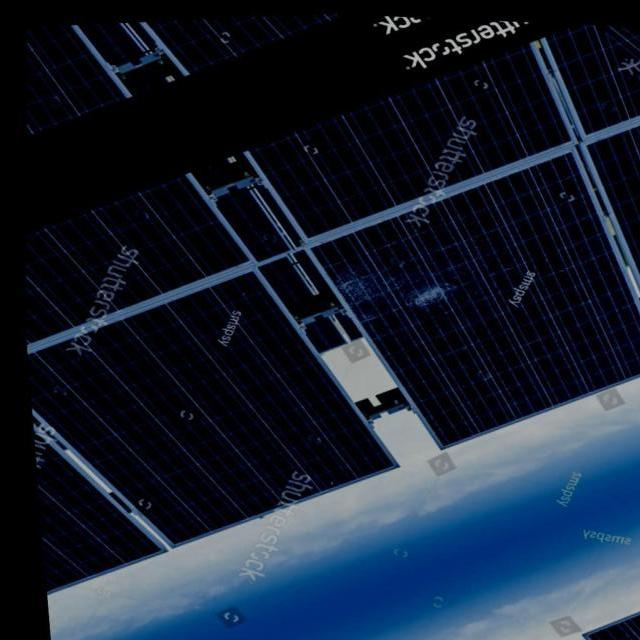cracked: (316, 156, 640, 457)
